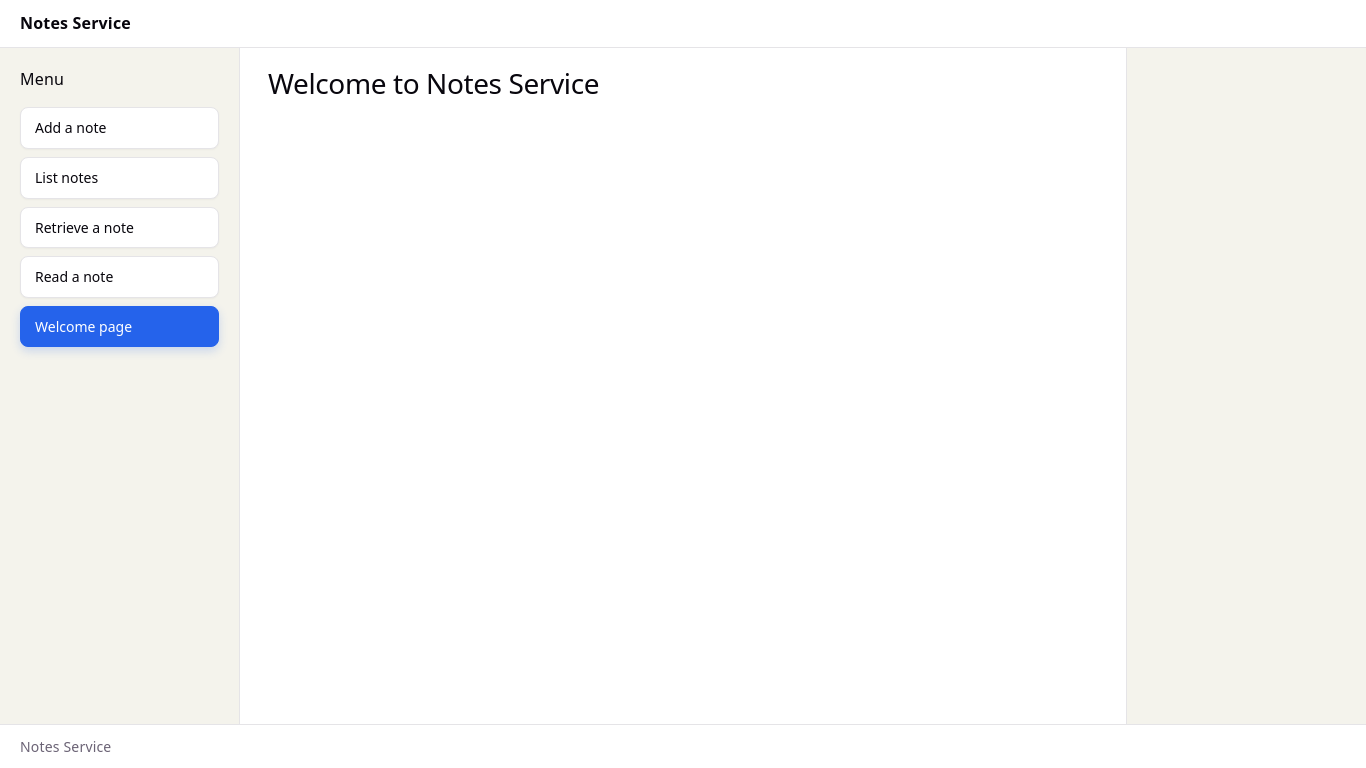
Scenario: App Component Layout › shows note form when Add a note button is clicked
Note: Click "Add a note" button
What coordinates should you click on to do the following:
click the button "Add a note"
I would click on:
 (120, 128)
Its box is x1=20 y1=107 x2=219 y2=149.
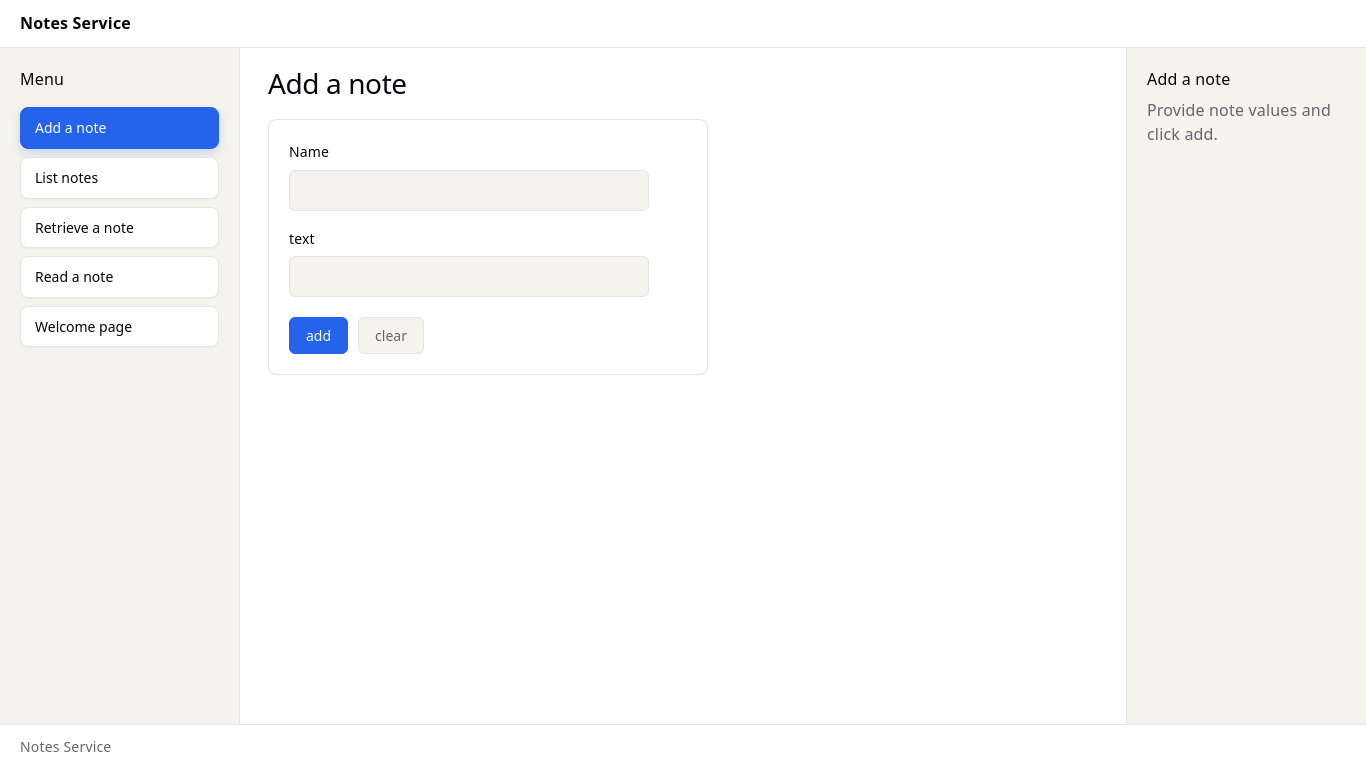
Expected: the field labelled "Name" is shown, x1=289 y1=170 x2=649 y2=211
Expected: the field labelled "text" is shown, x1=289 y1=256 x2=649 y2=297
Expected: the button "add" is shown, x1=289 y1=317 x2=348 y2=354
